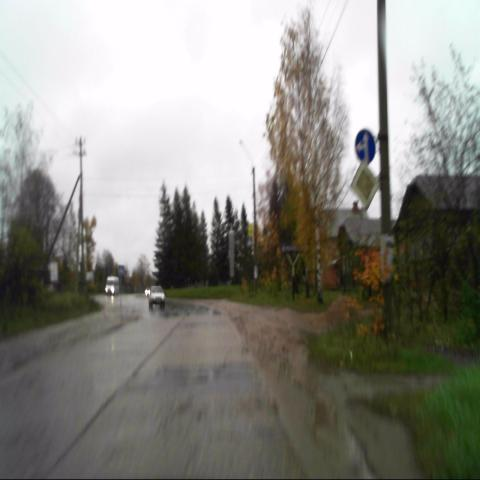4_1_5: (355, 129, 375, 164)
